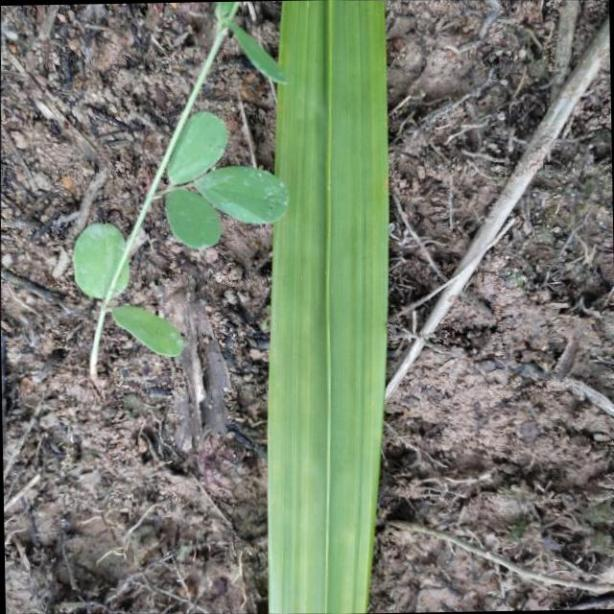nitrogen: (266, 0, 390, 614)
